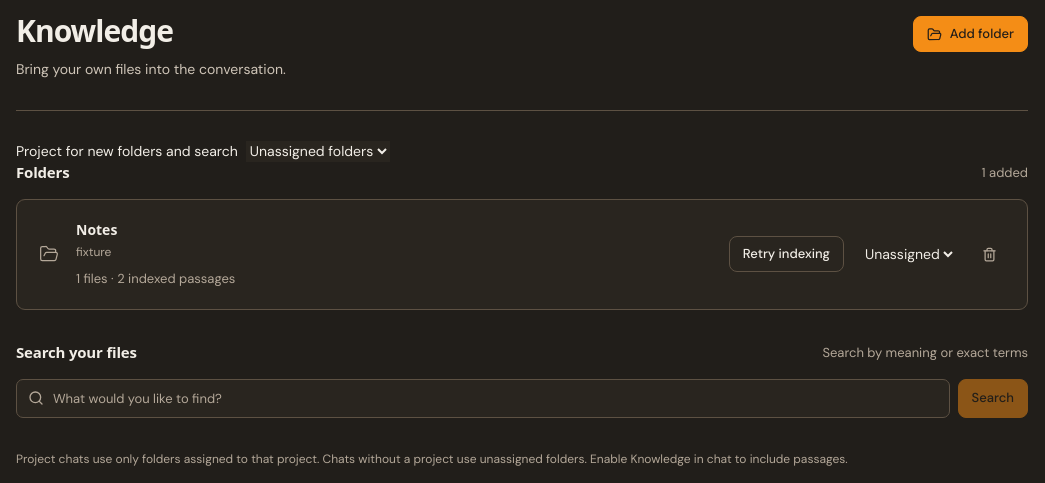
Test: supporting page recovery › unlocks Knowledge search after a folder moves and ignores its pending old result
This screenshot has width=1045, height=483.
Type "deadline" into the field named "Search your files" at (495, 398), box [53,380,938,417]
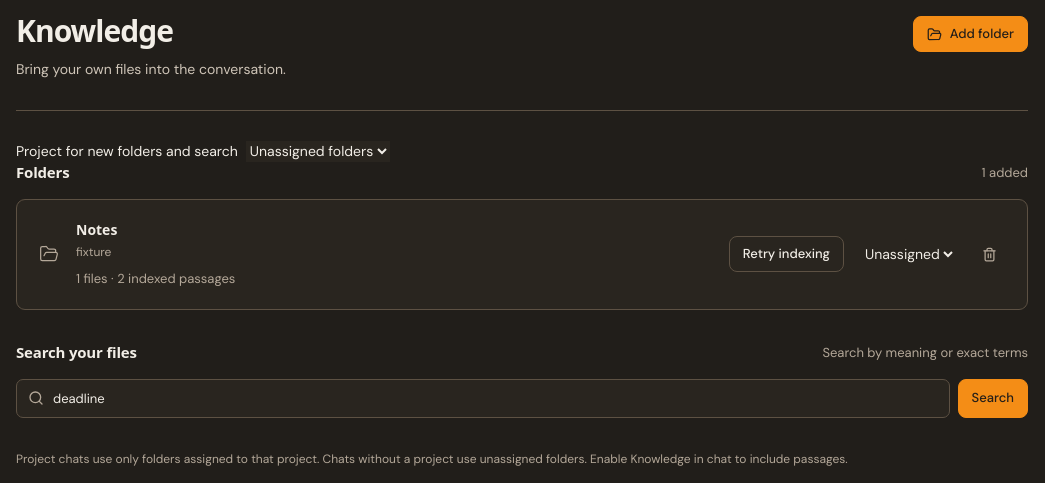
Click the button "Search" at (993, 398), box [958,379,1028,418]
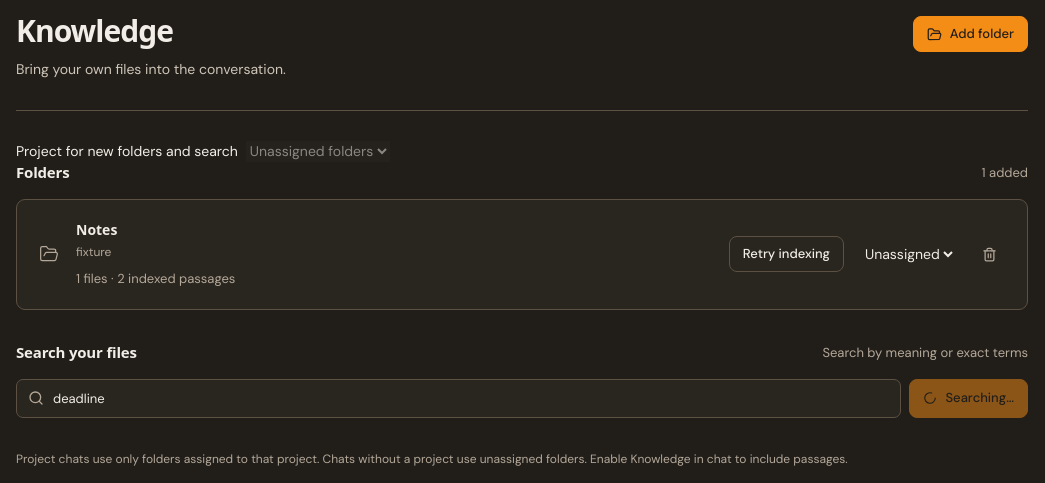
Expected: the button "Searching…" is disabled, [910,379,1028,418]
Select "Research" in the dropdown named "Project for Notes" at (908, 254), box [861,244,956,264]
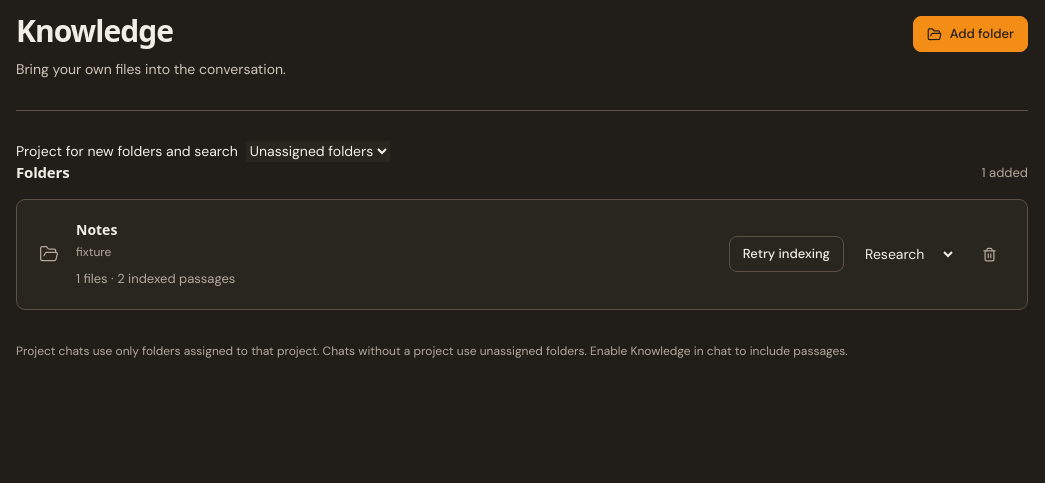
Expected: the dropdown named "Knowledge project" is enabled
Select "Research" in the dropdown named "Knowledge project" at (318, 151), box [246,141,390,162]
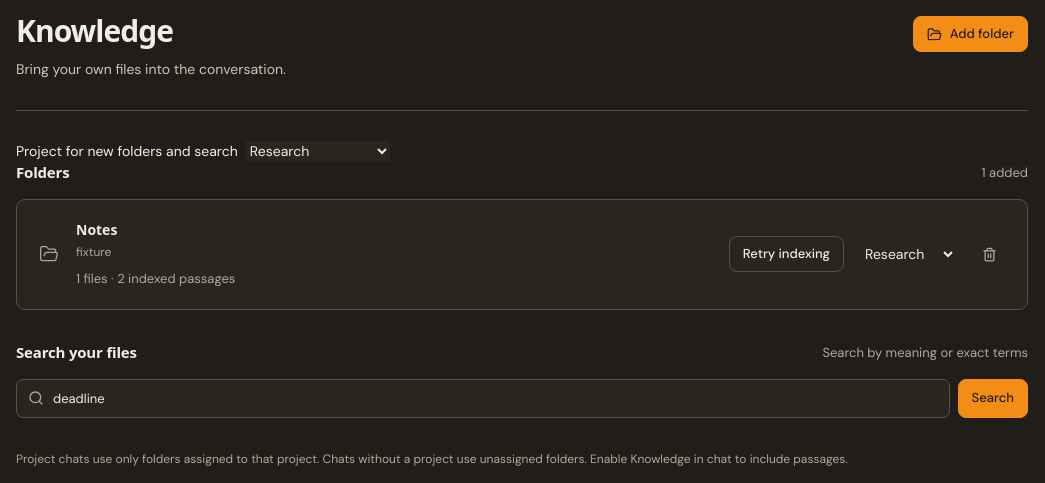
Expected: the dropdown named "Knowledge project" is enabled, [246,141,390,162]
Expected: the button "Search" is enabled, [958,379,1028,418]
